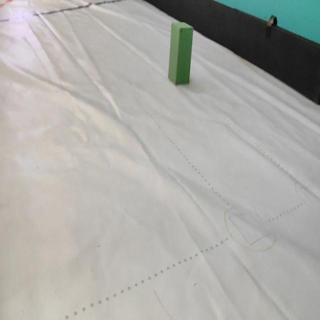greenbox: (169, 22, 194, 86)
